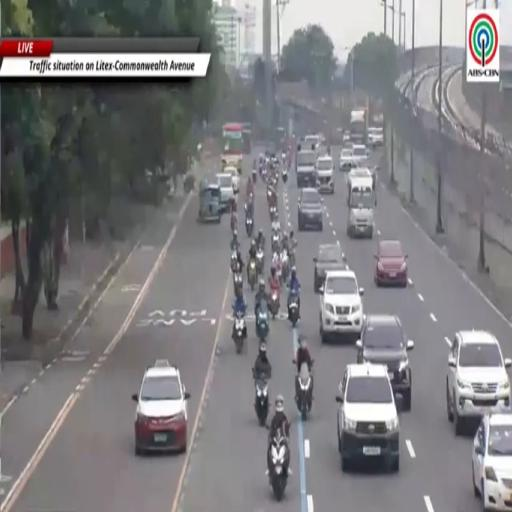bus: (222, 123, 244, 173)
car: (336, 364, 401, 472), (447, 331, 511, 435), (132, 360, 190, 455), (357, 314, 413, 411), (472, 413, 511, 510), (319, 269, 364, 343), (313, 244, 348, 293), (374, 240, 407, 287), (298, 188, 323, 231), (216, 173, 235, 212), (316, 155, 334, 194), (224, 166, 239, 194), (347, 167, 371, 184), (339, 149, 354, 171), (353, 144, 368, 166), (369, 127, 383, 148), (343, 139, 353, 149), (343, 131, 351, 143)
motorcycle: (271, 430, 288, 501), (296, 363, 312, 421), (254, 373, 269, 426), (233, 314, 246, 354), (256, 309, 269, 342), (288, 294, 299, 327), (281, 250, 290, 283), (248, 259, 257, 291), (269, 291, 279, 318), (234, 269, 243, 296), (256, 248, 264, 275), (230, 251, 239, 274), (271, 232, 280, 252), (246, 217, 253, 237), (288, 249, 295, 267), (231, 213, 237, 232), (282, 167, 287, 183), (252, 169, 257, 183), (267, 190, 272, 202)
truck: (296, 149, 317, 187), (350, 109, 368, 145)
